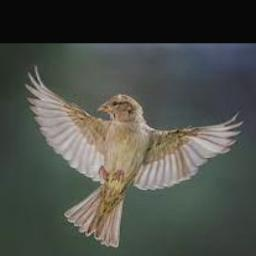Sparrow: (25, 65, 244, 247)
